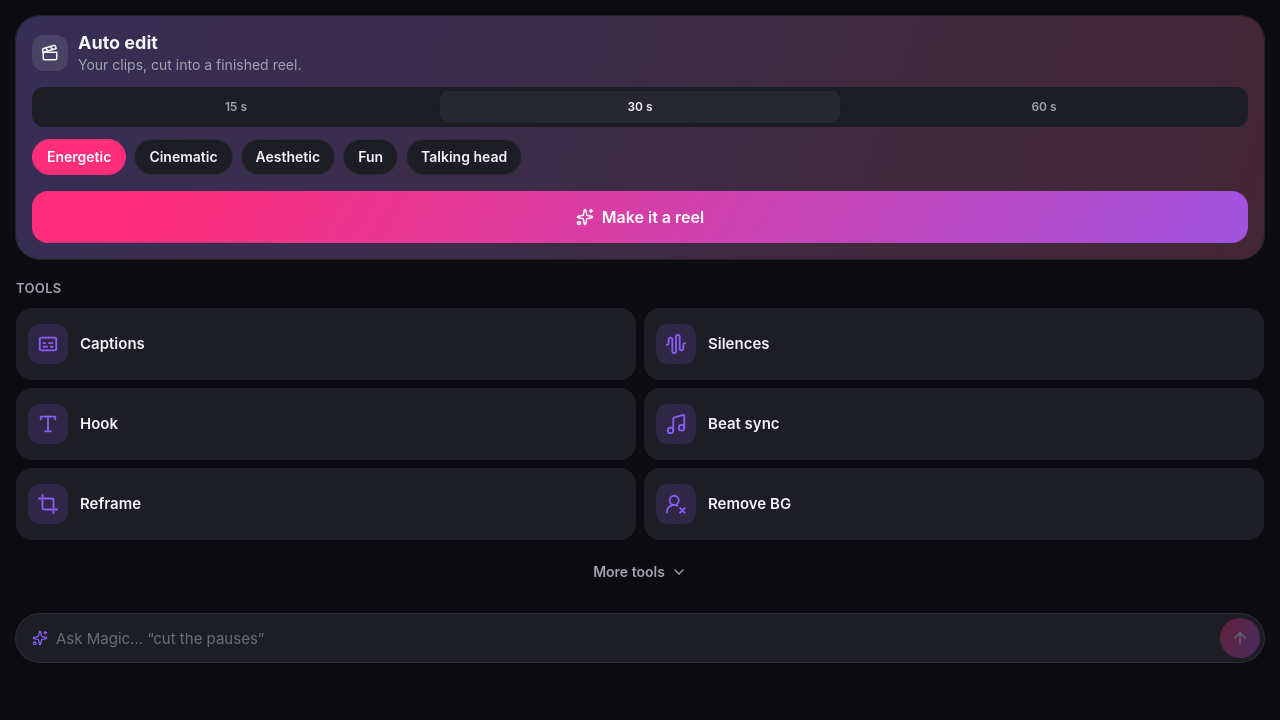
Test: AI panel › shows host progress, then failure with a working retry
Click the button "Captions". click: [48, 344]
box: top-left (16, 308), bottom-right (636, 380)
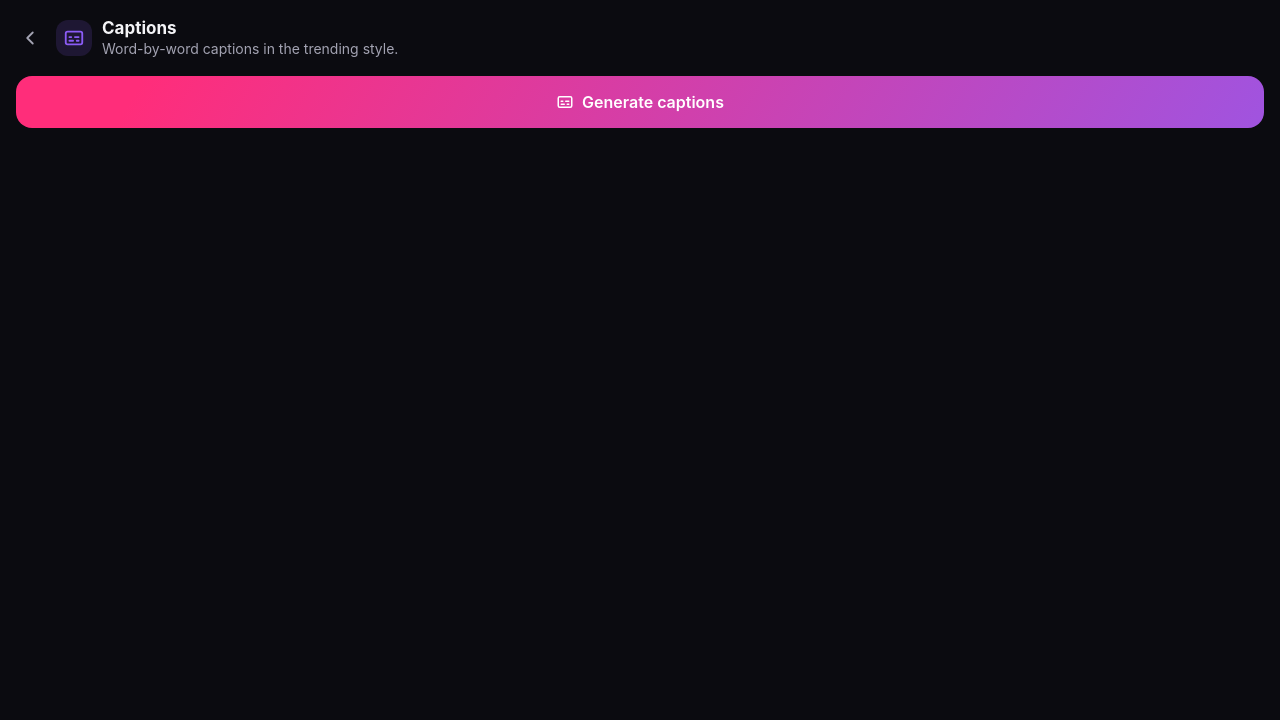
Click the button "Generate captions". click: [640, 102]
box: top-left (16, 76), bottom-right (1264, 128)
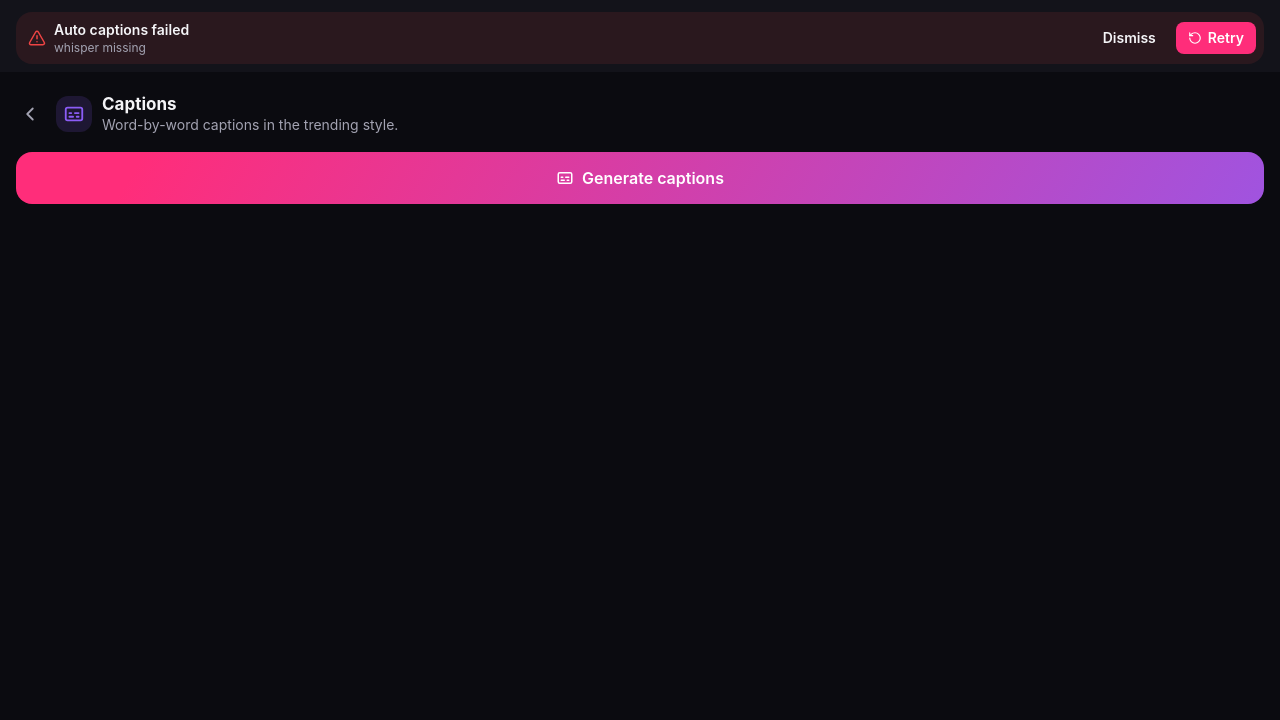
Expected: the text "Auto captions failed" is shown, top-left (54, 21), bottom-right (189, 38)
Expected: the text "whisper missing" is shown, top-left (54, 40), bottom-right (146, 55)
Click the button "Retry". click: [1216, 38]
box: top-left (1176, 22), bottom-right (1256, 54)
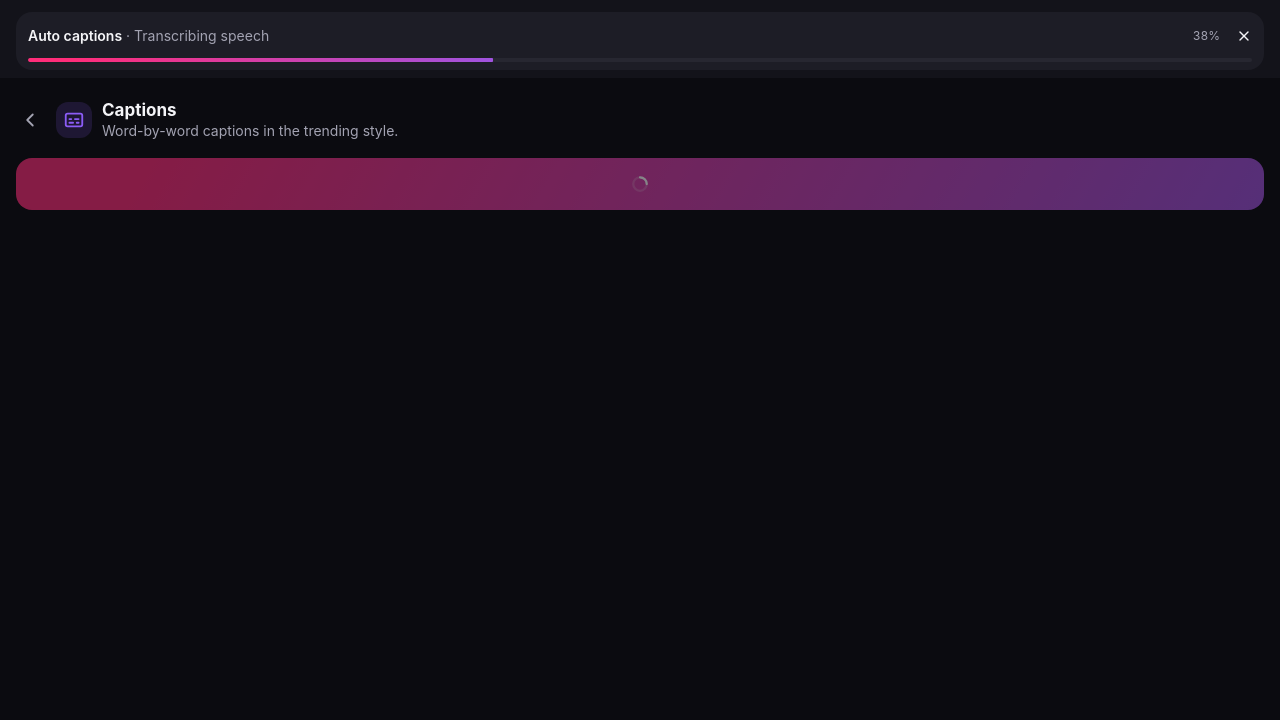
Click the button named "Cancel". click: [1244, 36]
box: top-left (1228, 20), bottom-right (1260, 52)
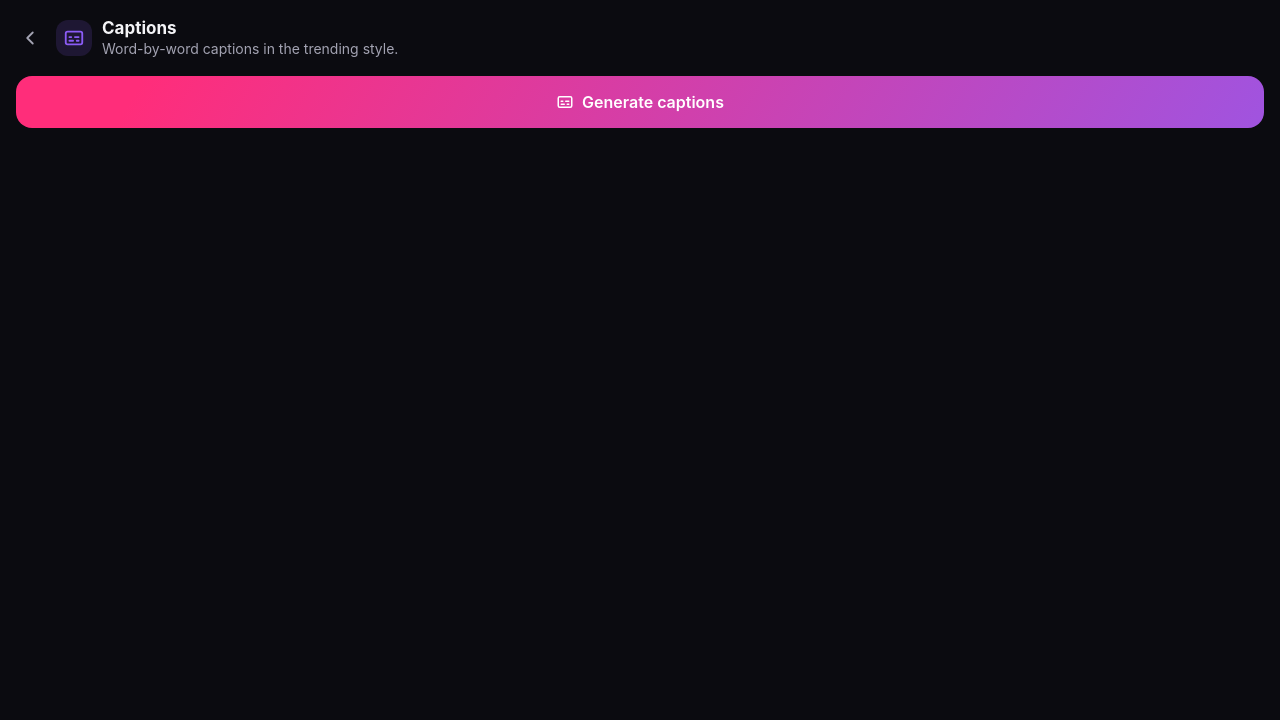
Expected: the progress indicator is gone
